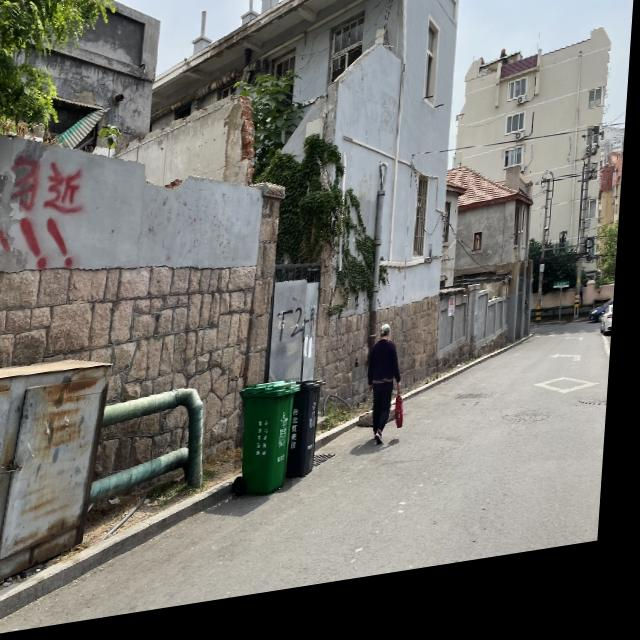garbage_bin: (240, 388, 306, 509), (292, 388, 332, 489)
